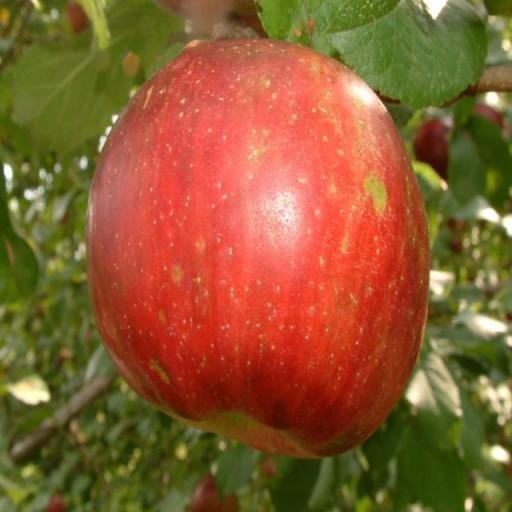fruit: (118, 257, 355, 512), (112, 268, 329, 512), (202, 78, 512, 240), (235, 56, 512, 171), (41, 126, 137, 448), (34, 260, 97, 512), (33, 15, 113, 47), (74, 0, 234, 3)
